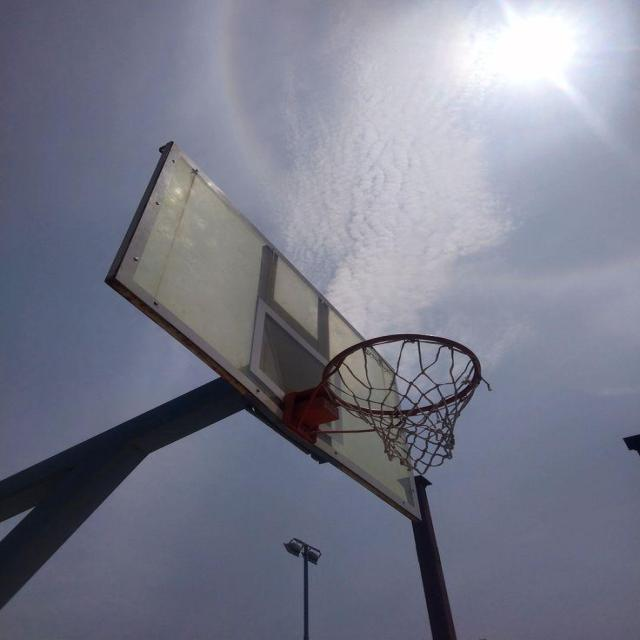hoop: (312, 336, 516, 462)
